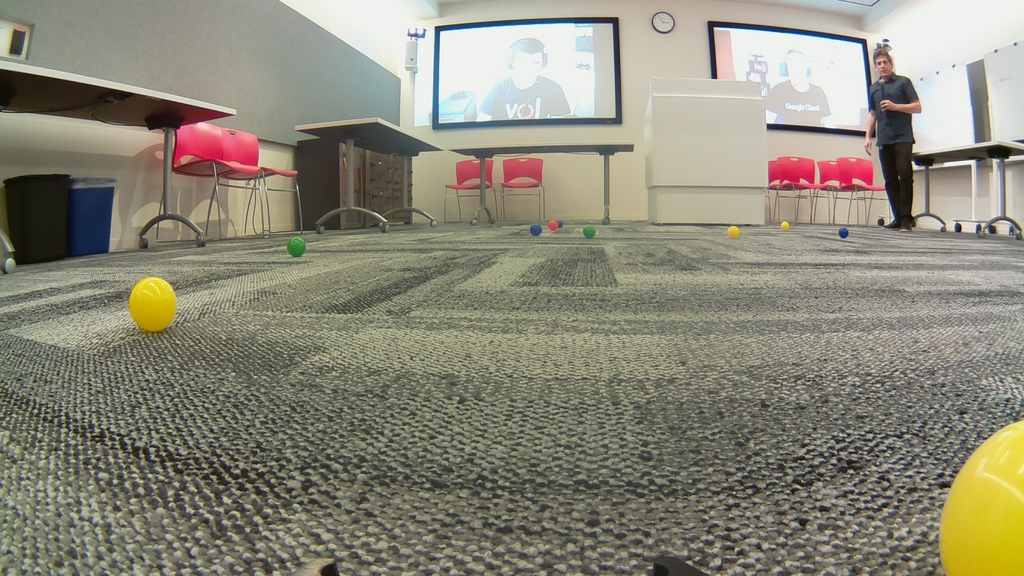ball: (129, 277, 176, 331)
